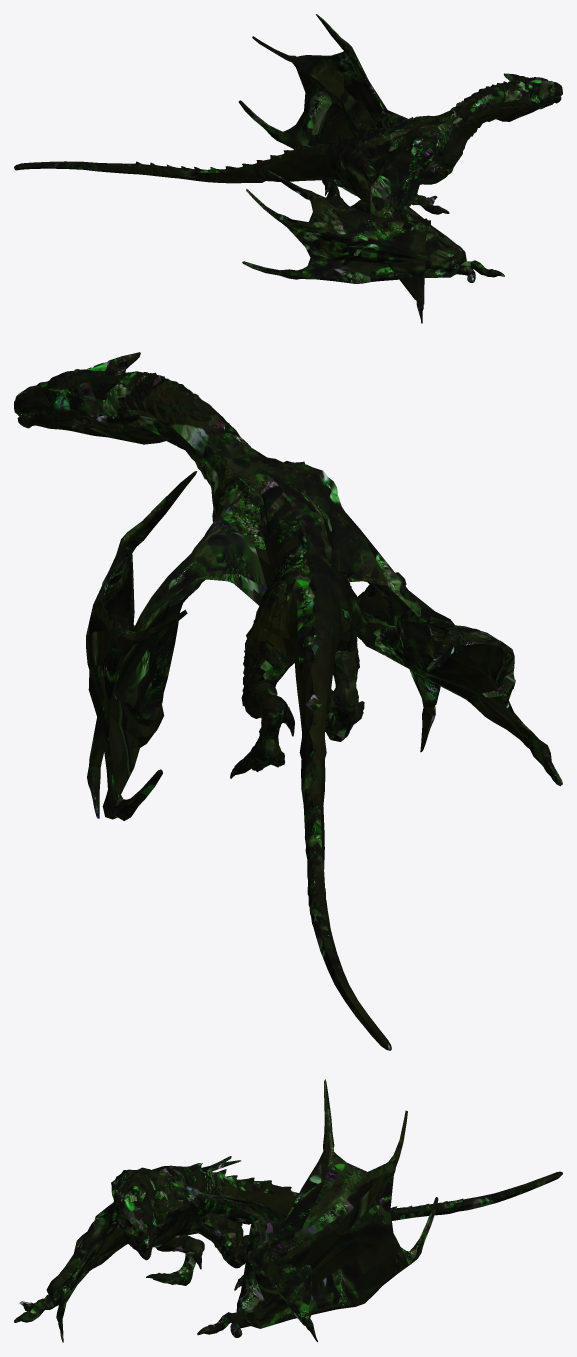
The model's file is frame_0028_uv.obj.
The picture shows the model from 3 angles, top to bottom: view 1: azimuth 30°, elevation 25°; view 2: azimuth 150°, elevation 25°; view 3: azimuth 270°, elevation 25°; orthographic projection. The views are drawn at different scales.
Parts seen in each view (by area): view 1: pMesh1; view 2: pMesh1; view 3: pMesh1.
Part boxes in pixels (<box>): pMesh1: <box>14,14,562,323</box>; pMesh1: <box>14,352,562,1050</box>; pMesh1: <box>14,1079,562,1342</box>.
Size of the model in its own units: 1.65 by 0.9593 by 1.79.
